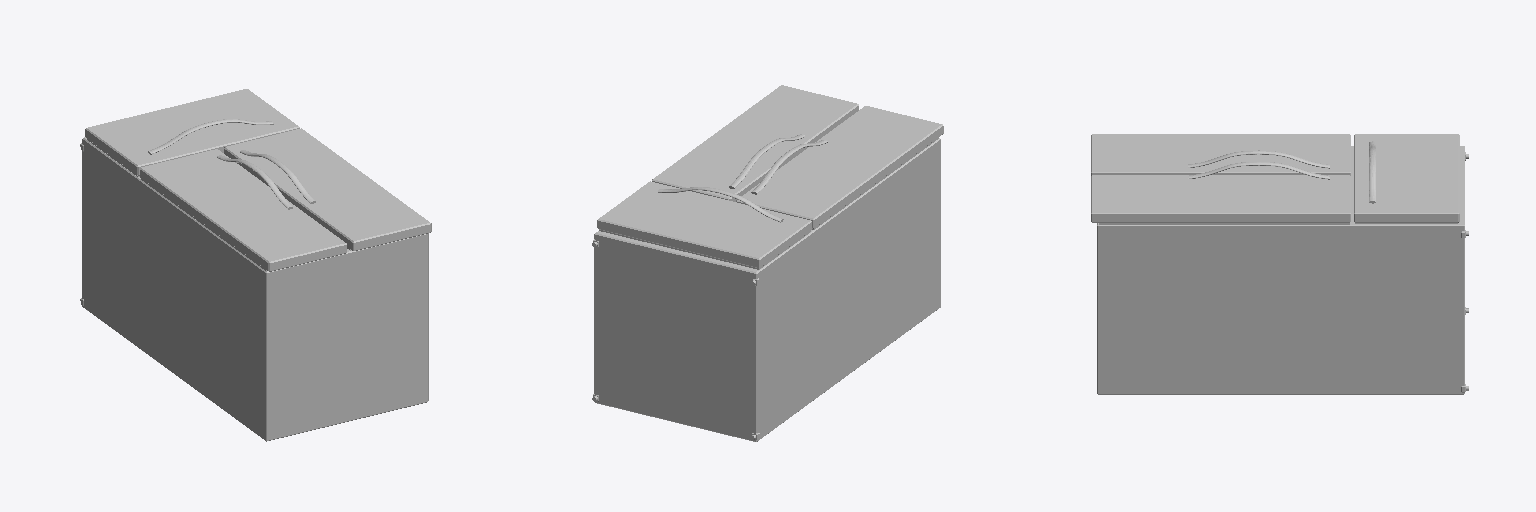
File: door.obj
The picture shows the model from 3 angles: view 1: azimuth 30°, elevation 25°; view 2: azimuth 150°, elevation 25°; view 3: azimuth 270°, elevation 25°; orthographic projection.
Parts seen in each view (by area): view 1: Cylinder.000, Cylinder.001, Cylinder.002; view 2: Cylinder.000, Cylinder.001, Cylinder.002; view 3: Cylinder.000, Cylinder.001.
Boxes of the visible parts, box(x1,y1,x2,y2) form: Cylinder.000: box(80, 89, 428, 441); Cylinder.001: box(140, 128, 431, 271); Cylinder.002: box(148, 119, 273, 154); Cylinder.000: box(592, 138, 940, 441); Cylinder.001: box(652, 85, 943, 229); Cylinder.002: box(658, 187, 783, 222); Cylinder.000: box(1097, 134, 1468, 394); Cylinder.001: box(1091, 134, 1350, 224).
Bounding box in the file's own units: 0.9185 × 1.06 × 1.82.